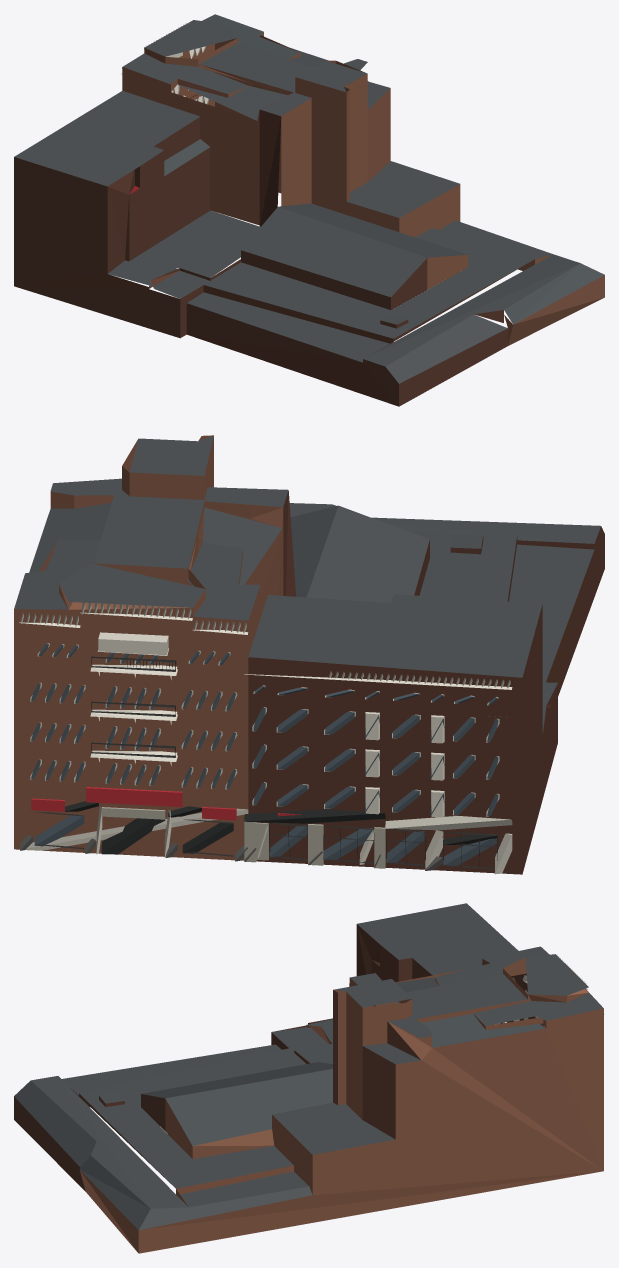
File: overtoom-197.lod1.glb
3 renders of one model, top to bottom at view 1: azimuth 30°, elevation 25°; view 2: azimuth 150°, elevation 25°; view 3: azimuth 270°, elevation 25°, orthographic. The views are drawn at different scales.
Parts seen in each view (by area): view 1: overtoom-197; view 2: overtoom-197; view 3: overtoom-197.
Part boxes in pixels (x1,y1,x2,y2): overtoom-197: (14,14,604,406); overtoom-197: (14,435,604,874); overtoom-197: (14,903,604,1253).
Size of the model in its own units: 64.56 by 25.15 by 74.25.
